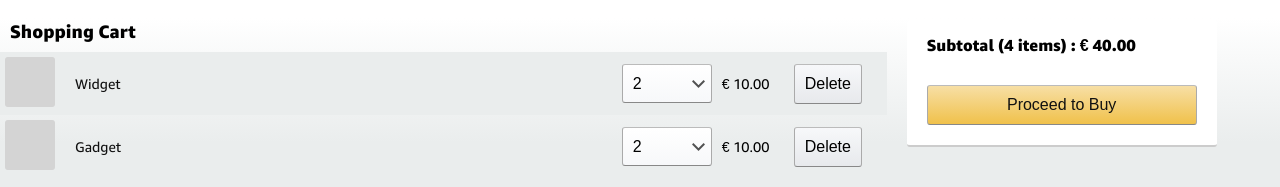
Test case: CartScreen › deleting an item removes it from the cart
The image size is (1280, 187).
Click the button "Delete" in the row of "Widget" at [828, 84], box [794,64,862,104]
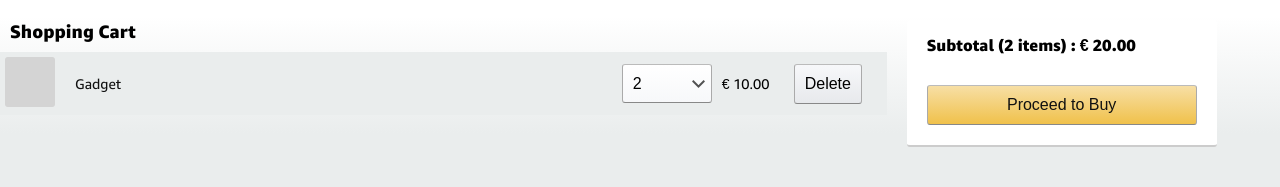
Expected: the link "Gadget" is shown, [75,75,121,92]
Expected: the link "Widget" is gone
